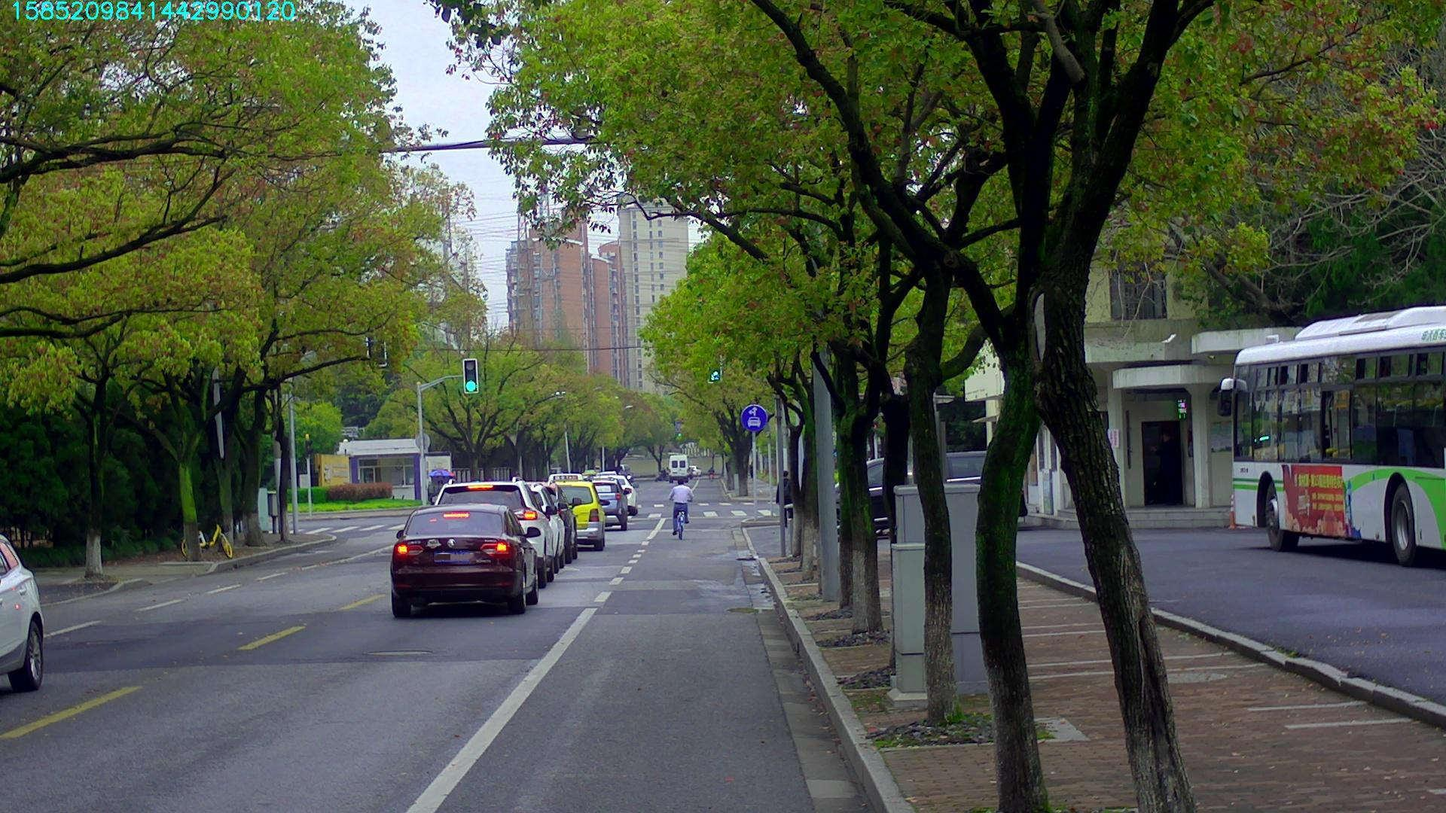green: (463, 358, 477, 392), (708, 355, 721, 382)
